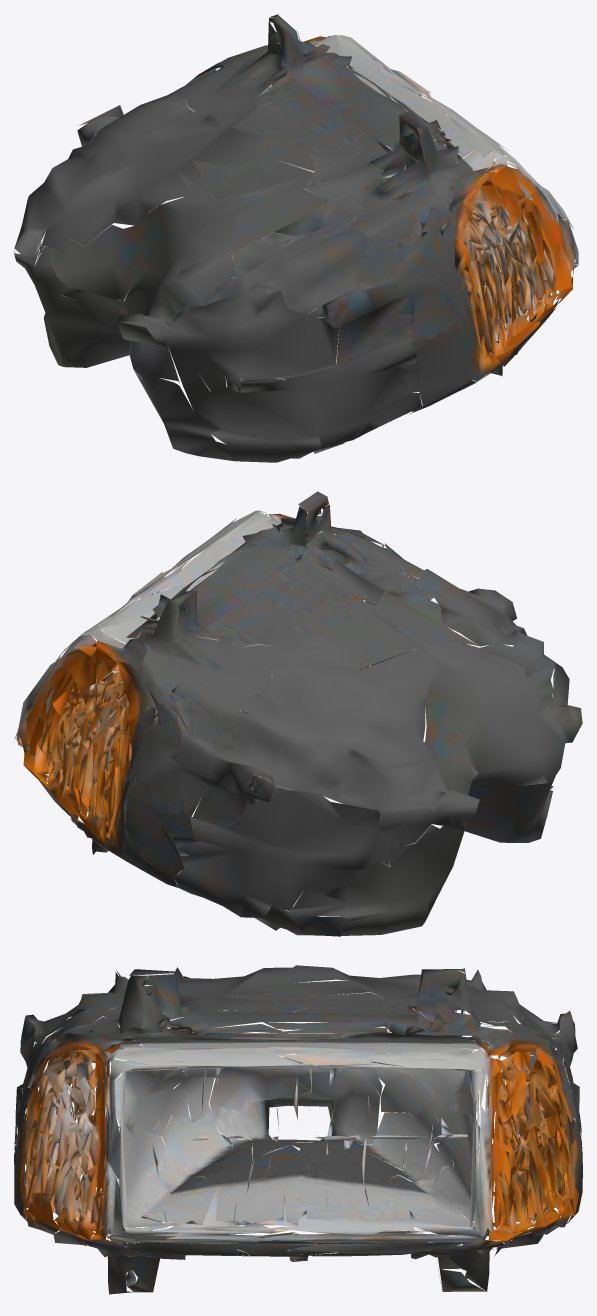
File: felda_headlight.glb
3 renders of one model, top to bottom at view 1: azimuth 30°, elevation 25°; view 2: azimuth 150°, elevation 25°; view 3: azimuth 270°, elevation 25°, orthographic. The views are drawn at different scales.
Parts seen in each view (by area): view 1: tripo_node_d77e93d7-c8c8-419b-825b-b1a951bd6ca6; view 2: tripo_node_d77e93d7-c8c8-419b-825b-b1a951bd6ca6; view 3: tripo_node_d77e93d7-c8c8-419b-825b-b1a951bd6ca6.
Part boxes in pixels (box(x1,y1,x2,y2)): tripo_node_d77e93d7-c8c8-419b-825b-b1a951bd6ca6: box(14, 14, 578, 462); tripo_node_d77e93d7-c8c8-419b-825b-b1a951bd6ca6: box(14, 491, 582, 936); tripo_node_d77e93d7-c8c8-419b-825b-b1a951bd6ca6: box(14, 965, 582, 1294).
Size of the model in its own units: 0.9874 by 0.609 by 1.
1 material, 1 textured.
